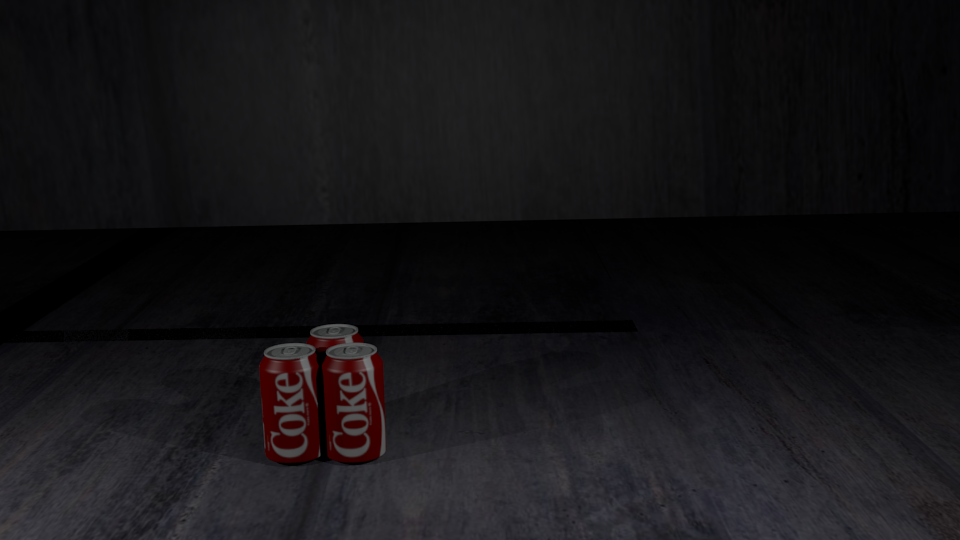cola_can: (259, 343, 323, 460), (321, 343, 384, 458), (306, 324, 363, 434)
